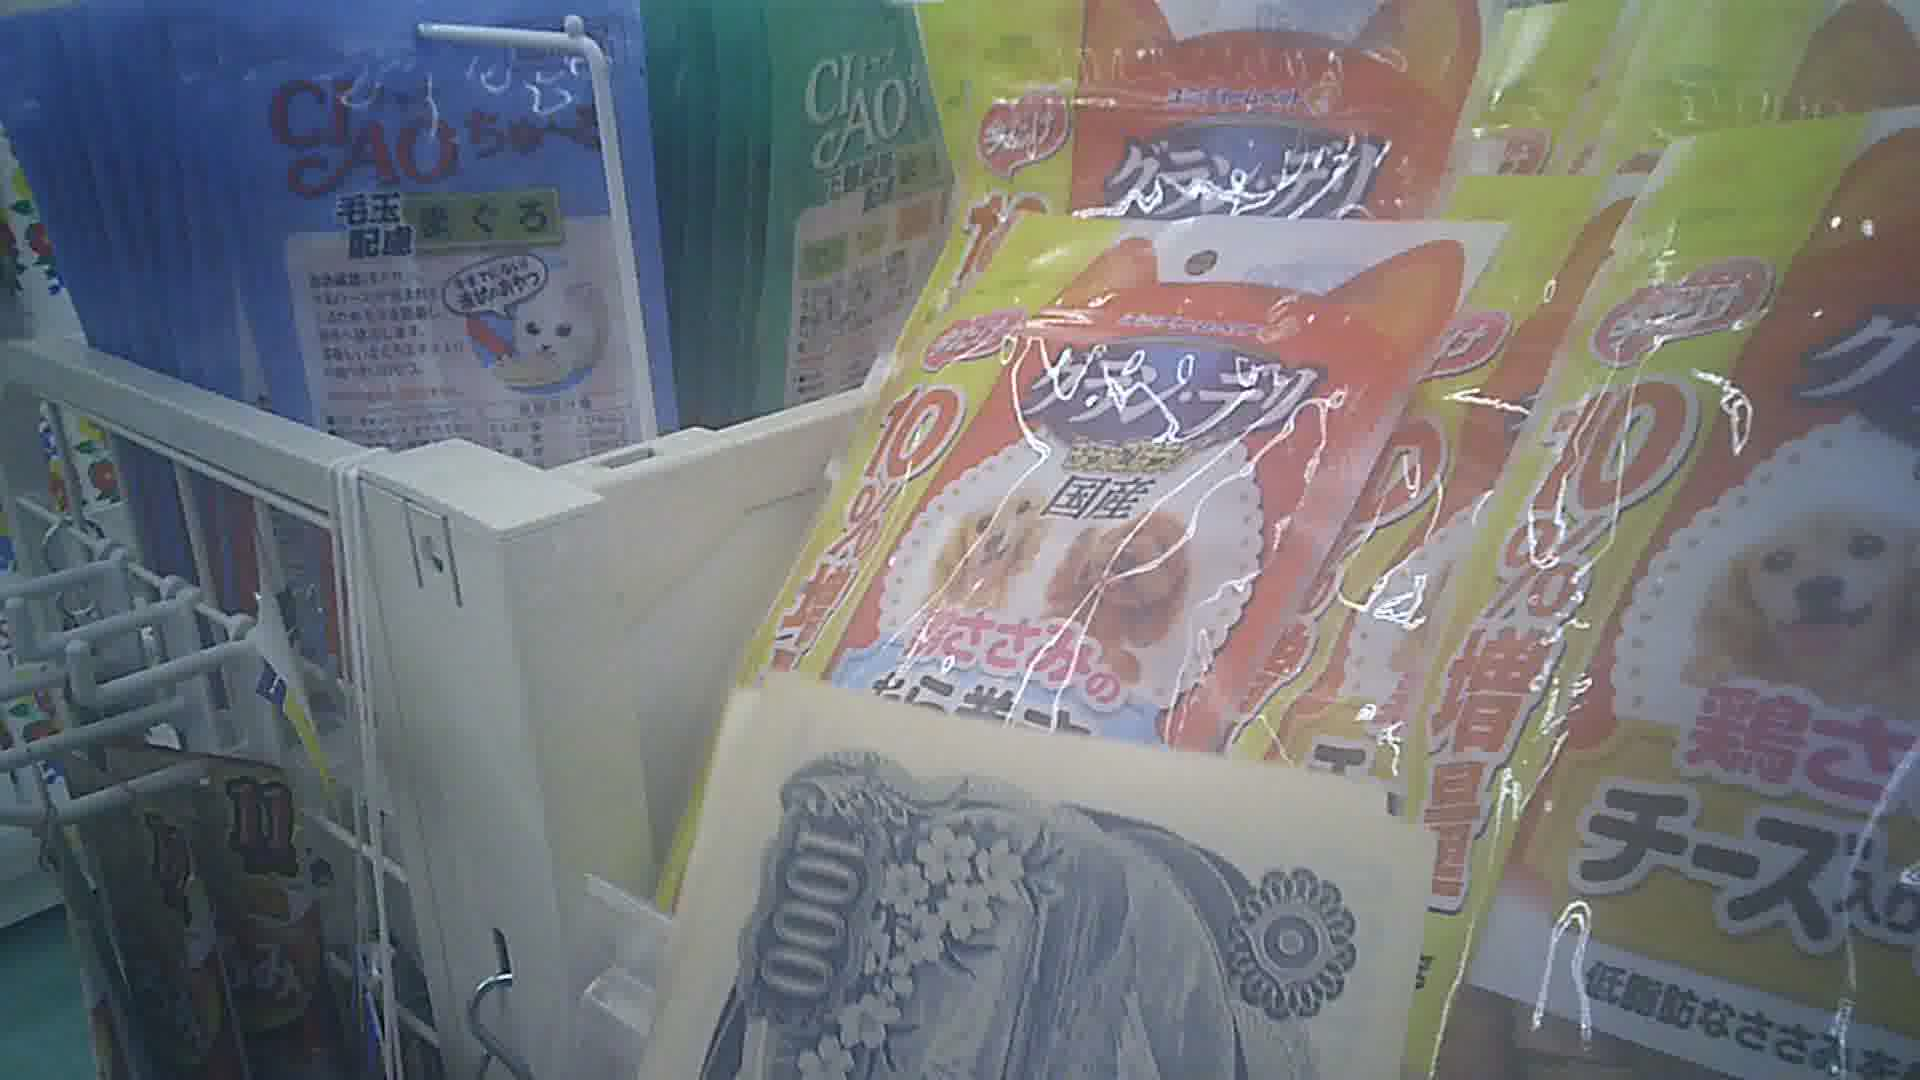1,000 Yen: (692, 686, 1414, 1079)
